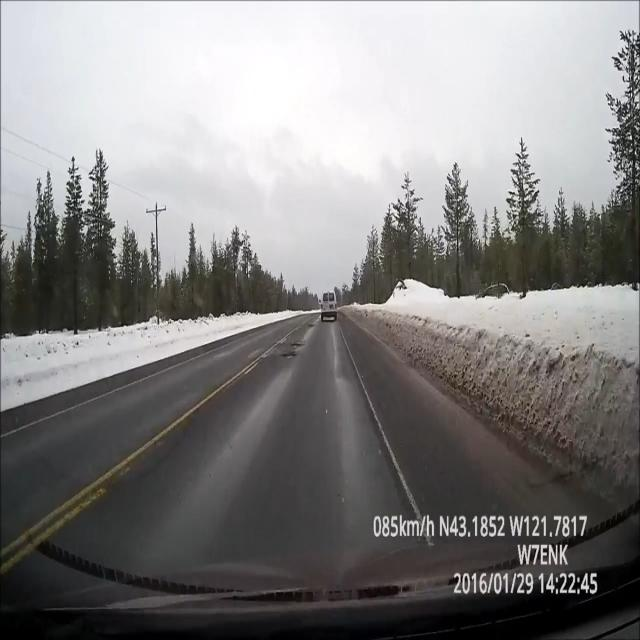Pothole: (281, 335, 308, 367)
